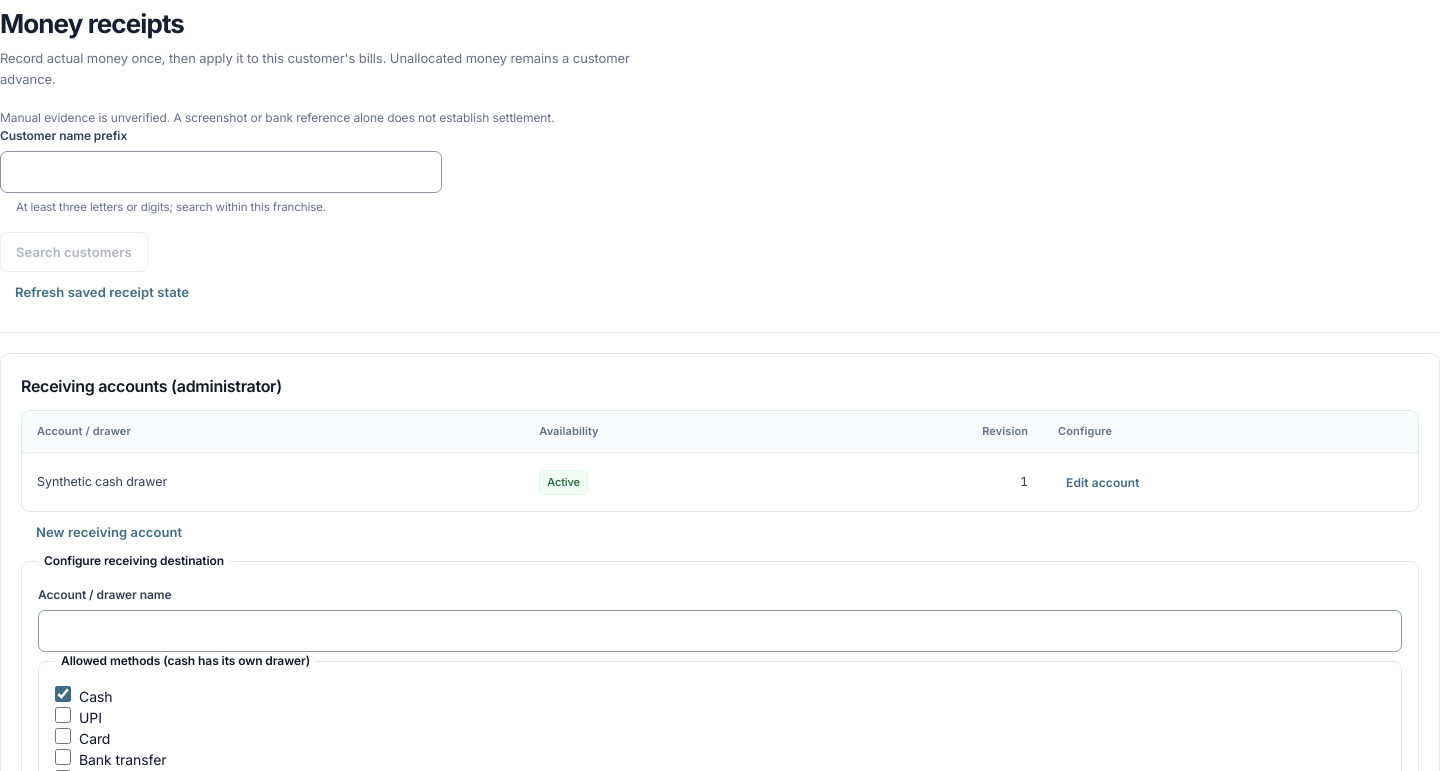
Test: production money receipt workflows › configures a named other receiving method through an append-only administrator account revision
Click the button "Edit account" at (1103, 482), box [1058, 465, 1148, 499]
(page scrolled)
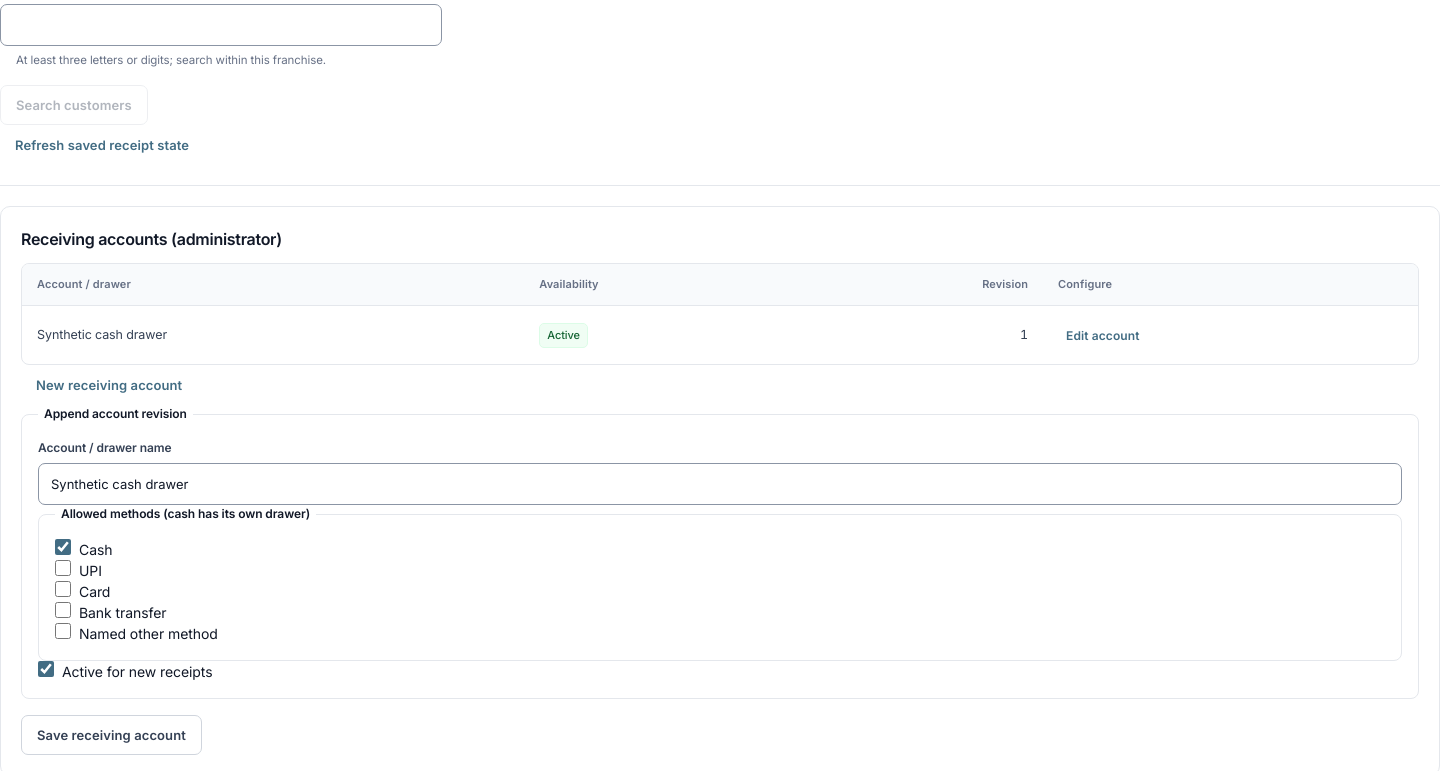
Click the checkbox labelled "Named other method" at (63, 631), box [55, 623, 71, 639]
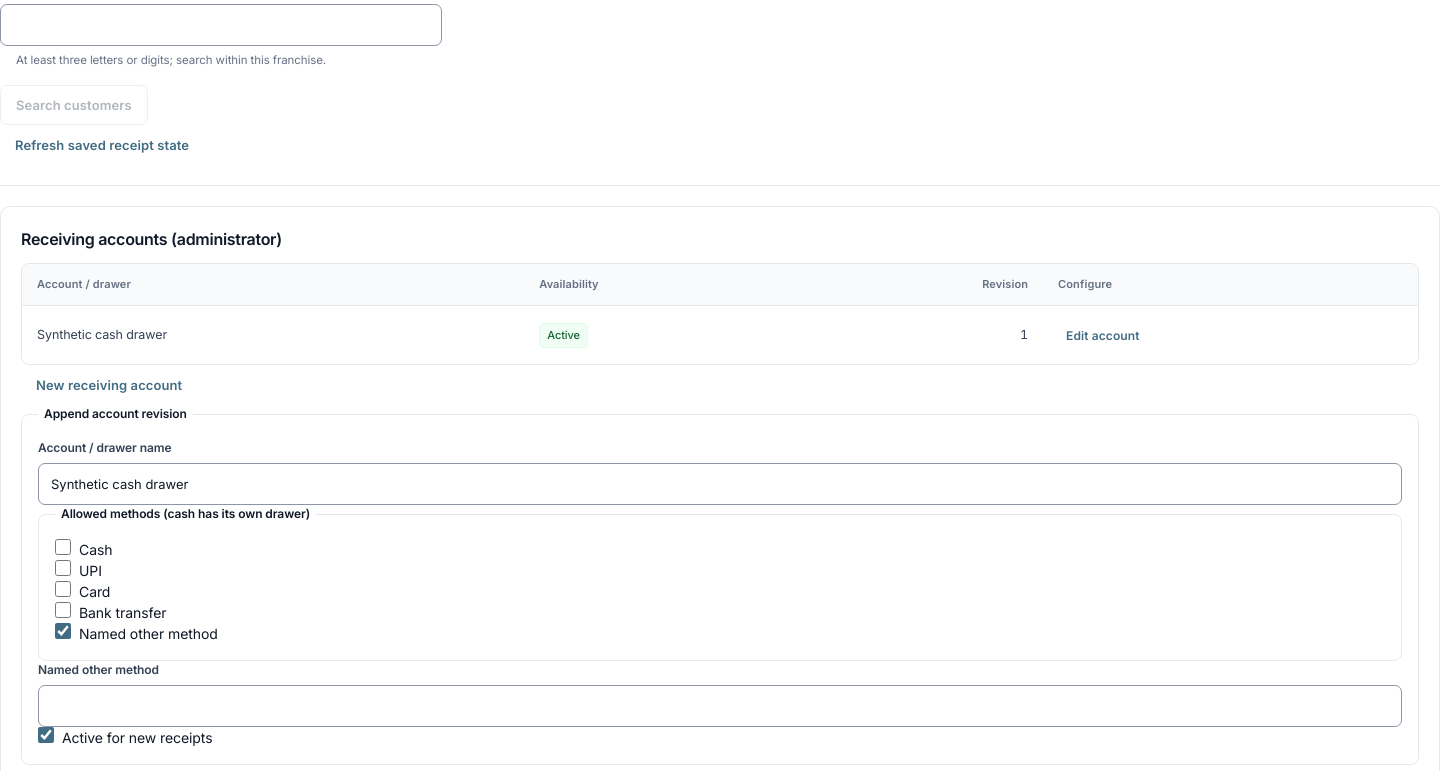
Type "Synthetic cheque" into the field labelled "Named other method" at (720, 706), box [38, 685, 1402, 727]
(page scrolled)
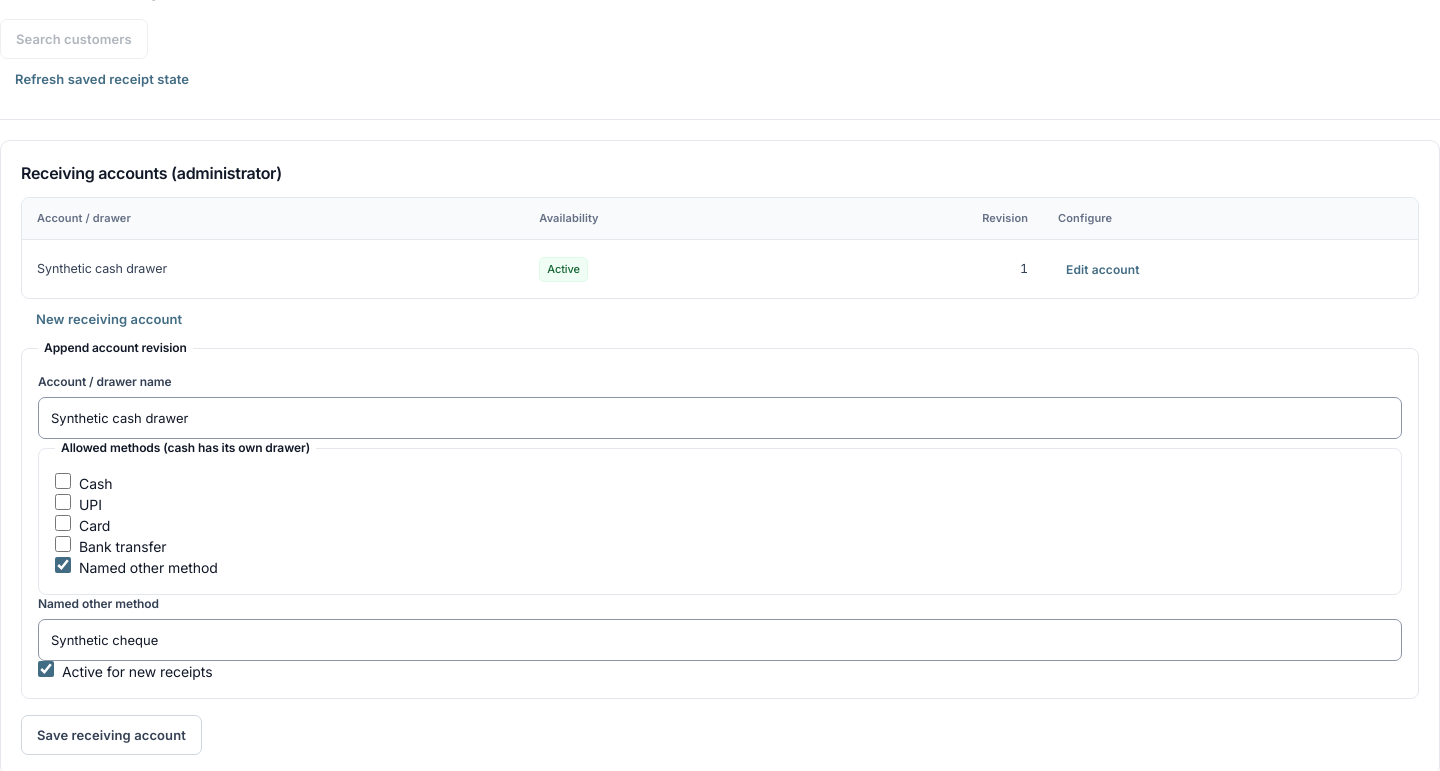
Click the button "Save receiving account" at (111, 735), box [21, 715, 202, 755]
(page scrolled)
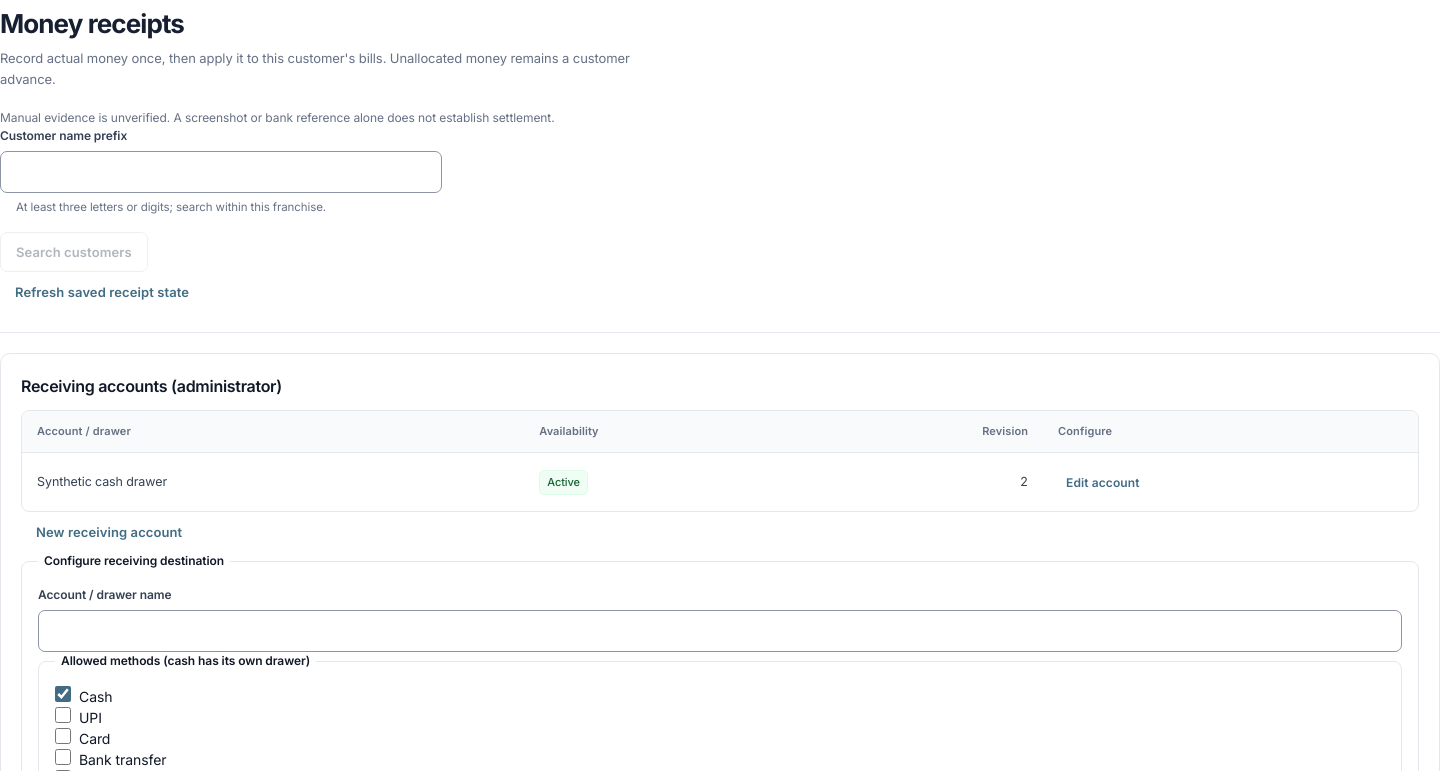
Expected: the cell "Synthetic cash drawer" is shown, [22, 453, 524, 511]
Result: the cell "2" is shown at [805, 453, 1043, 511]
